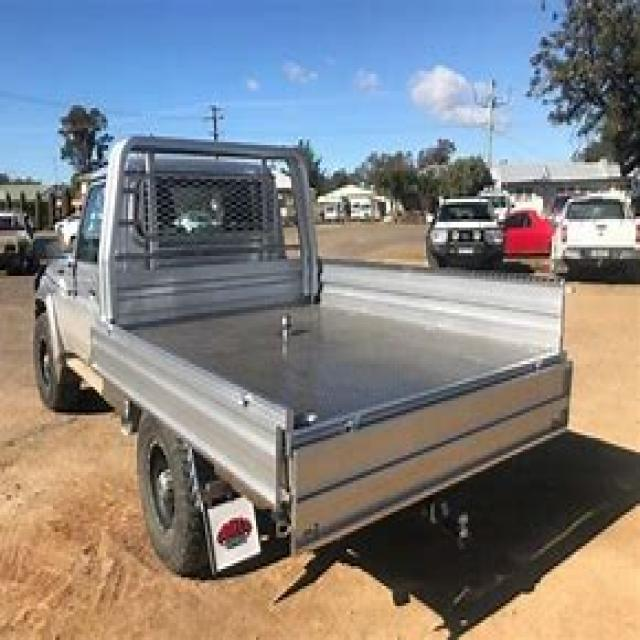light_vehicle: (16, 122, 592, 578)
